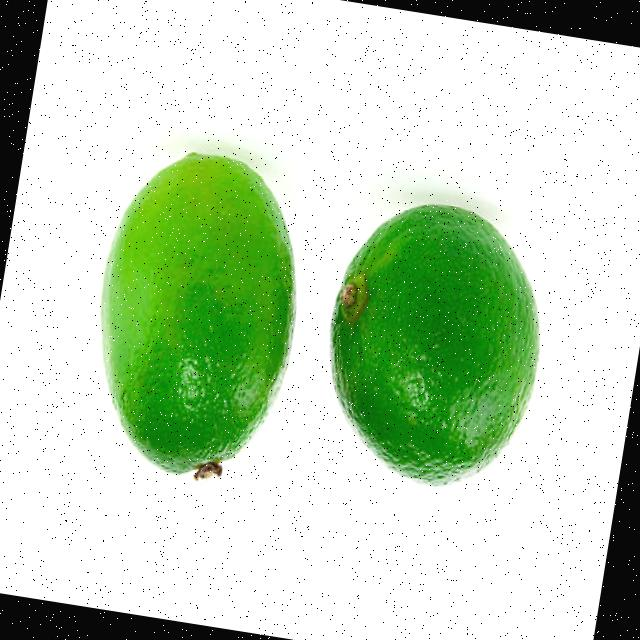Unripe: (74, 140, 318, 491), (306, 189, 560, 503)
